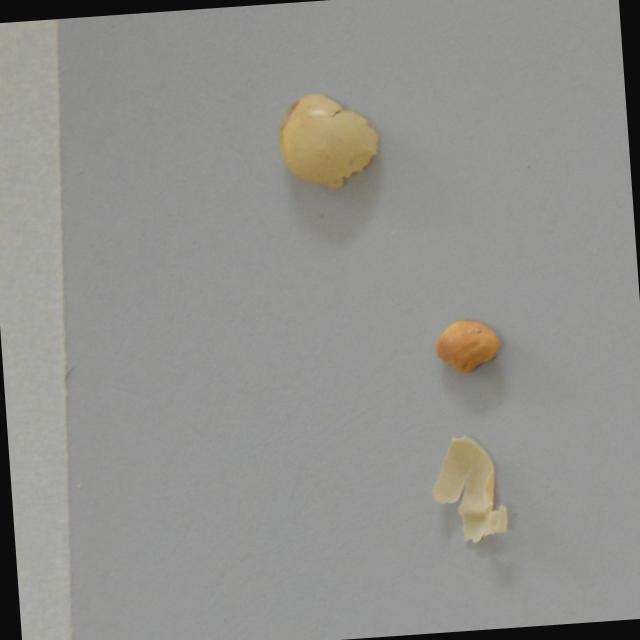cuerpos_extranos: (278, 92, 384, 198), (420, 431, 509, 547), (426, 311, 505, 378)
